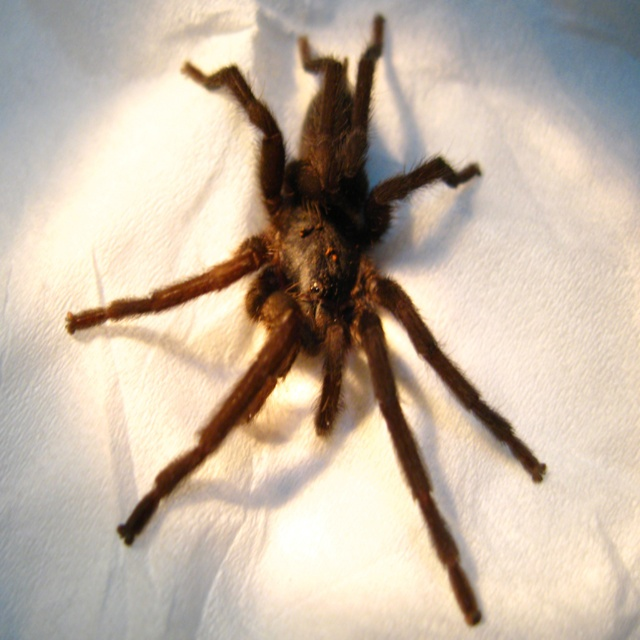Spider: (64, 12, 547, 628)
